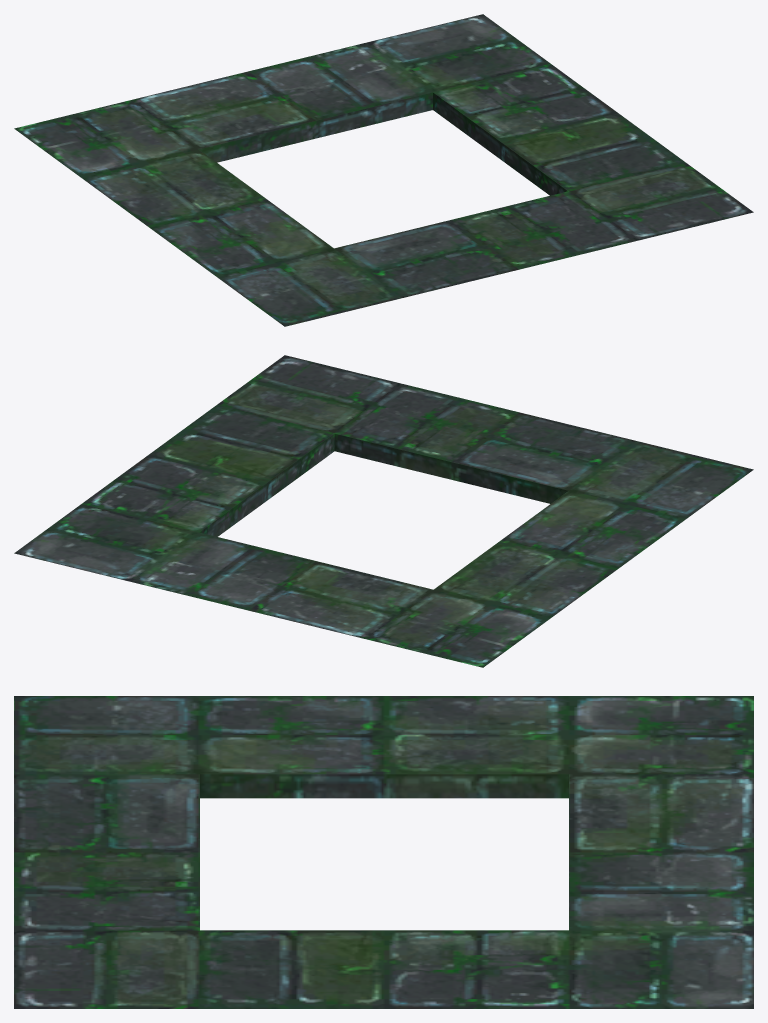
The model's file is stemple_floor_trigger_01.fbx.
The picture shows the model from 3 angles, top to bottom: view 1: azimuth 30°, elevation 25°; view 2: azimuth 150°, elevation 25°; view 3: azimuth 270°, elevation 25°; orthographic projection. The views are drawn at different scales.
Visible parts, largest first — view 1: obj0.427; view 2: obj0.427; view 3: obj0.427.
Part boxes in pixels (bbox=[...]): obj0.427: bbox=[14, 14, 753, 326]; obj0.427: bbox=[14, 355, 753, 667]; obj0.427: bbox=[14, 696, 753, 1008].
Bounding box in the file's own units: 4 × 0.1433 × 4.
